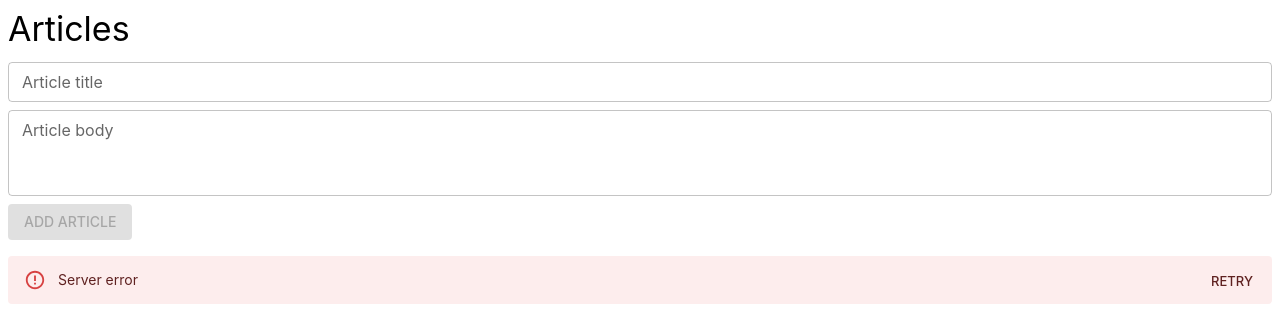
Test case: ArticlesPage › error state › refetches when the retry button is clicked
The width and height of the screenshot is (1280, 323).
Click the button "Retry" at (1232, 282), box [1200,266,1264,297]
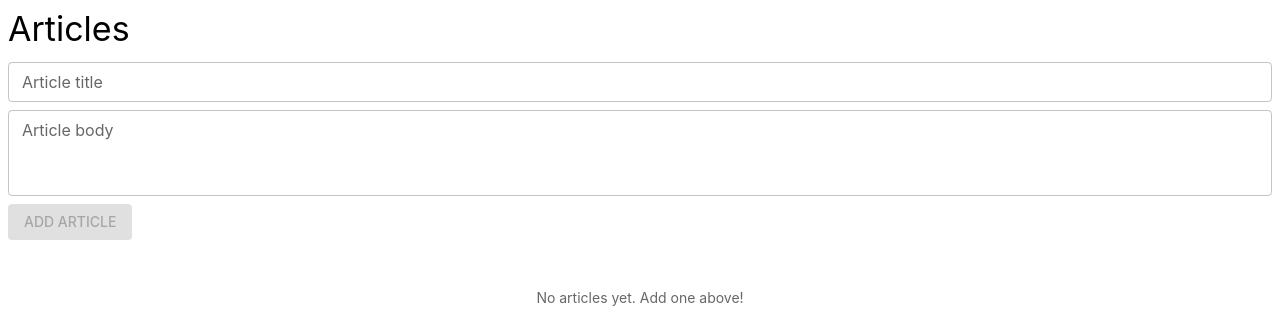
Now the message "Server error Retry" is gone
